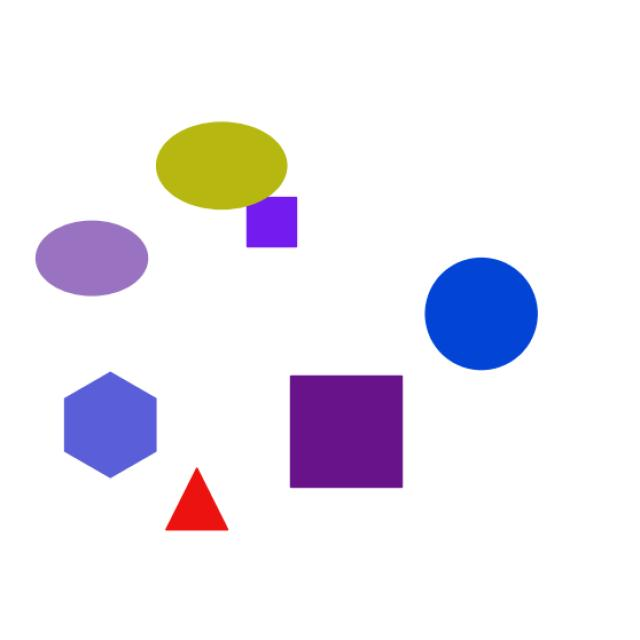Hexagon: (33, 368, 189, 481)
Oval: (21, 216, 185, 319), (146, 120, 310, 213)
Triangle: (148, 441, 238, 536)
square: (393, 245, 566, 385), (276, 352, 418, 497), (235, 188, 311, 256)
